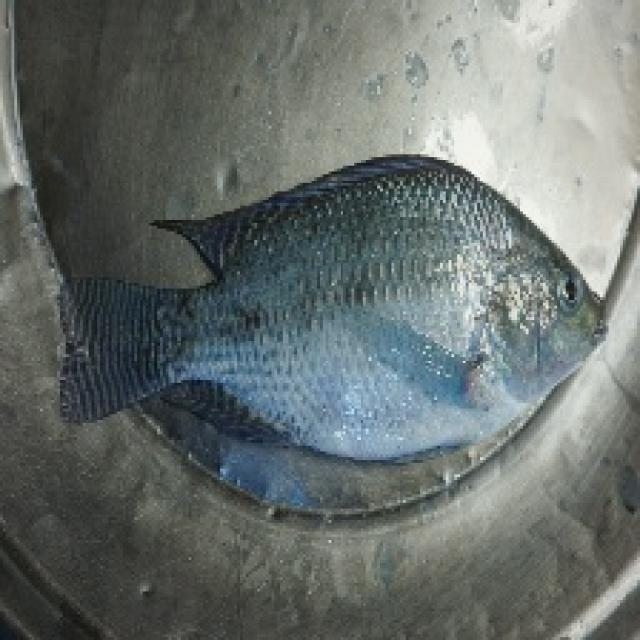Fresh: (45, 148, 640, 482)
